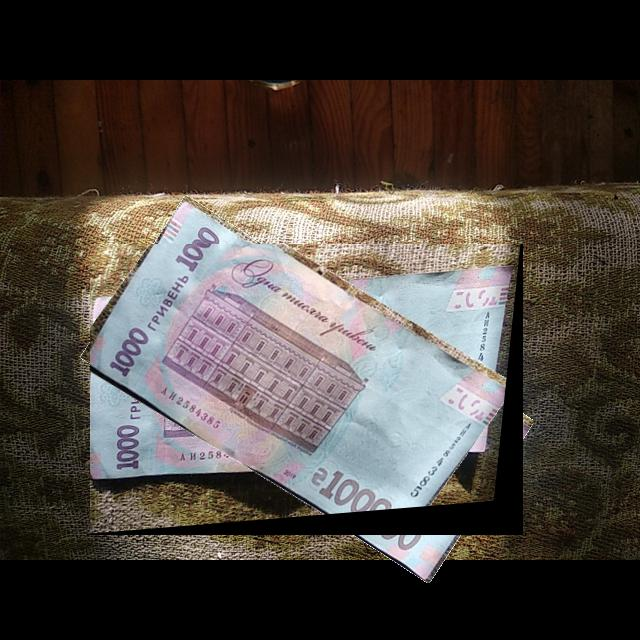1000uah: (90, 244, 524, 536)
